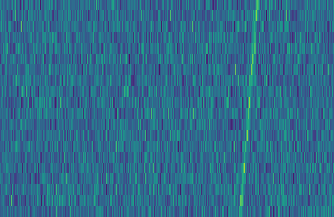signal: (237, 0, 263, 217)
